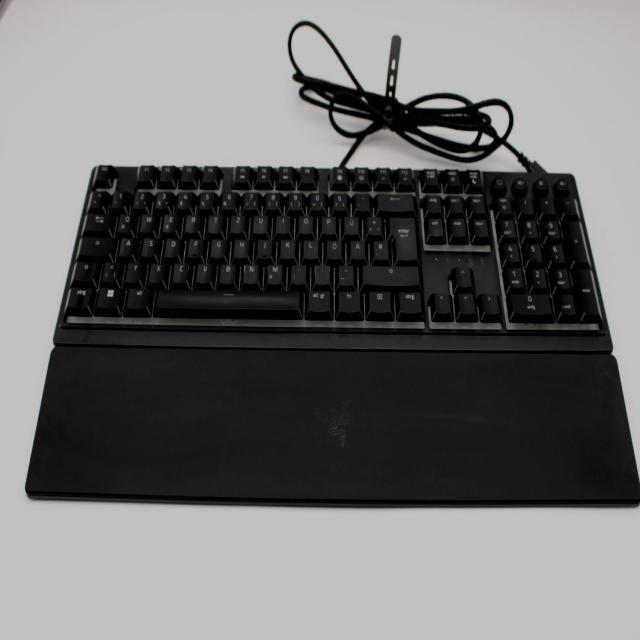0: (309, 188, 325, 207)
1: (110, 188, 128, 206)
2: (132, 187, 151, 208)
3: (154, 187, 172, 208)
4: (175, 188, 193, 207)
5: (198, 188, 214, 207)
6: (220, 188, 237, 207)
7: (241, 187, 259, 209)
8: (264, 187, 281, 209)
9: (286, 188, 302, 208)
a: (117, 234, 134, 255)
accent: (353, 190, 368, 210)
ae: (348, 237, 364, 257)
alt-left: (124, 285, 150, 308)
altgr-right: (306, 287, 330, 311)
b: (218, 261, 235, 283)
c: (171, 260, 188, 281)
caret: (88, 188, 108, 207)
comma: (289, 261, 305, 282)
d: (163, 235, 180, 256)
del: (375, 190, 413, 211)
e: (161, 210, 178, 230)
enter: (388, 213, 417, 259)
f: (186, 235, 202, 256)
g: (209, 236, 225, 256)
h: (232, 236, 248, 256)
hash: (372, 237, 388, 258)
i: (275, 212, 290, 231)
j: (256, 236, 271, 257)
k: (279, 236, 294, 257)
keyboard: (53, 160, 615, 342)
l: (302, 237, 317, 257)
less: (100, 258, 120, 281)
m: (264, 261, 282, 283)
minus: (337, 262, 352, 284)
n: (242, 261, 259, 282)
o: (297, 212, 313, 231)
oe: (326, 237, 341, 258)
p: (320, 212, 335, 233)
plus: (365, 213, 380, 233)
point: (313, 262, 329, 282)
q: (116, 210, 133, 230)
r: (183, 211, 201, 230)
s: (141, 236, 157, 255)
shift-left: (71, 259, 97, 280)
shift-lock: (78, 235, 112, 256)
shift-right: (360, 263, 418, 284)
space: (153, 287, 301, 310)
ss: (330, 189, 347, 210)
strg-left: (65, 284, 92, 308)
strg-right: (397, 288, 421, 313)
t: (206, 212, 222, 231)
tab: (83, 210, 112, 230)
u: (252, 211, 268, 232)
ue: (342, 213, 358, 233)
v: (194, 260, 212, 282)
w: (138, 210, 157, 231)
x: (148, 260, 166, 281)
y: (124, 260, 142, 281)
z: (228, 211, 245, 230)
